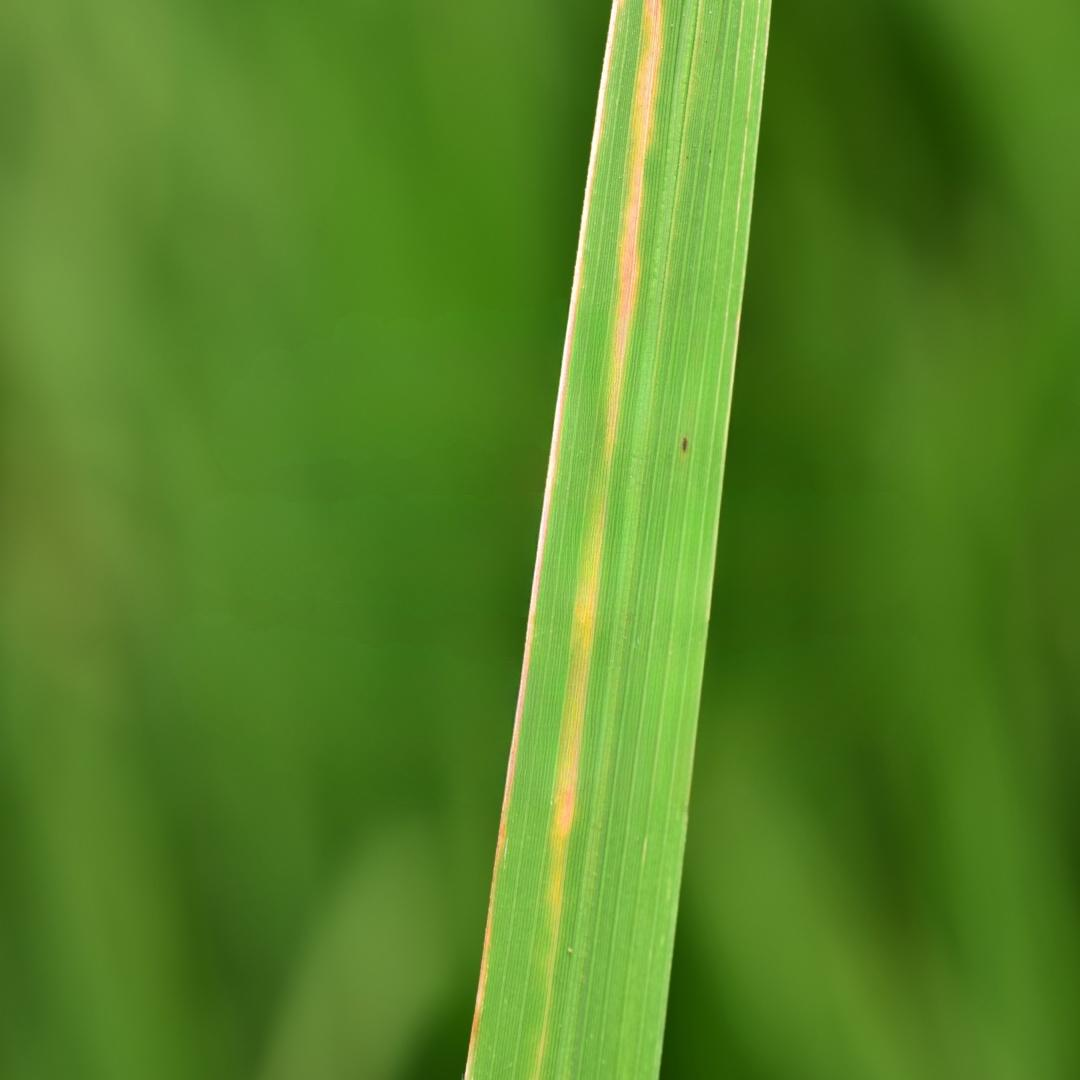BLB: (535, 1, 663, 1075)
LEAF: (464, 0, 770, 1079)
